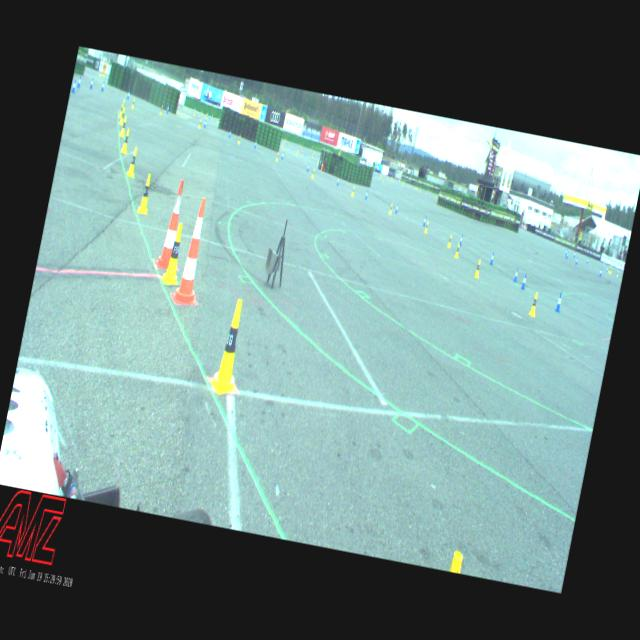blue_cone: (554, 291, 564, 313), (520, 271, 528, 291), (70, 78, 78, 94), (488, 250, 496, 266), (512, 267, 519, 283), (76, 74, 82, 88), (100, 80, 106, 93), (422, 216, 428, 227), (394, 202, 399, 215), (459, 234, 464, 247), (364, 189, 369, 200), (336, 176, 341, 187), (90, 77, 94, 90), (126, 90, 131, 100), (166, 104, 170, 115), (574, 256, 578, 266), (598, 268, 602, 277), (204, 119, 208, 128), (228, 130, 232, 138), (280, 152, 284, 160), (306, 164, 310, 172)
large_orange_cone: (171, 195, 216, 308), (156, 177, 187, 270)
yellow_cone: (207, 296, 253, 398), (160, 220, 189, 288), (136, 172, 156, 215), (126, 147, 140, 178), (528, 290, 540, 318), (120, 128, 132, 154), (119, 116, 129, 138), (473, 258, 482, 278), (118, 107, 126, 126), (454, 242, 461, 258), (118, 102, 125, 118), (446, 234, 453, 248), (388, 202, 394, 215), (350, 185, 356, 197), (424, 220, 429, 233), (131, 98, 136, 110), (311, 168, 316, 179), (238, 134, 242, 146), (276, 152, 280, 162), (198, 119, 202, 129), (160, 104, 163, 116)
